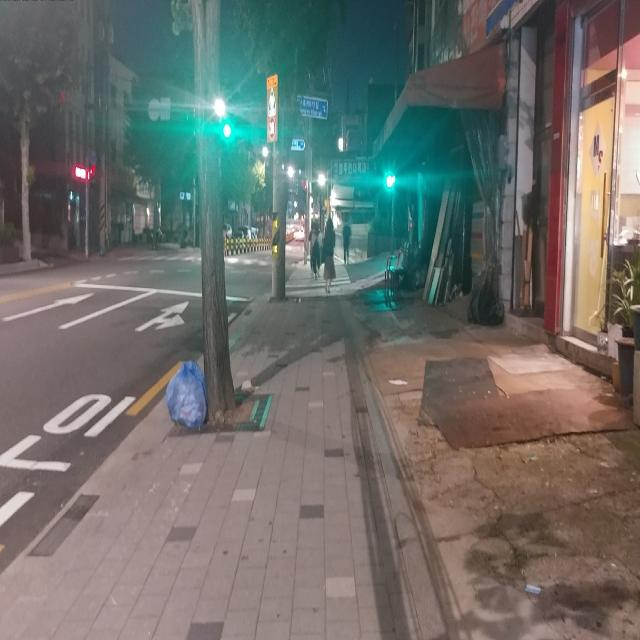횡단보도: (285, 261, 351, 288)
